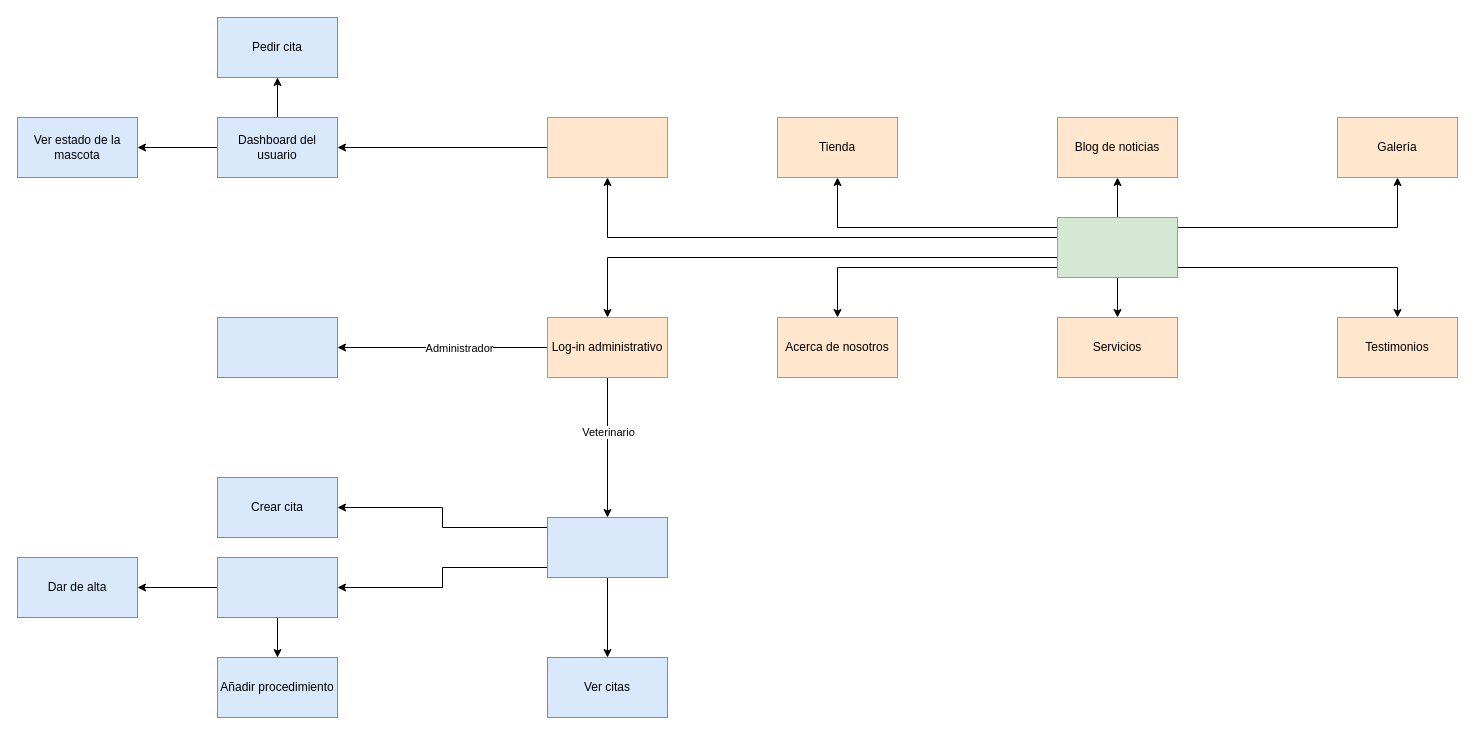
This 1475x735 diagram has some shape labels left out. Each missing label, with the centre of its shape:
"Dashboard del administrador" belongs at [277,347].
"Dashboard del veterinario" belongs at [607,547].
"Log-in de usuarios" belongs at [607,147].
"Página de Inicio" belongs at [1117,247].
"Ver mascota" belongs at [277,587].
